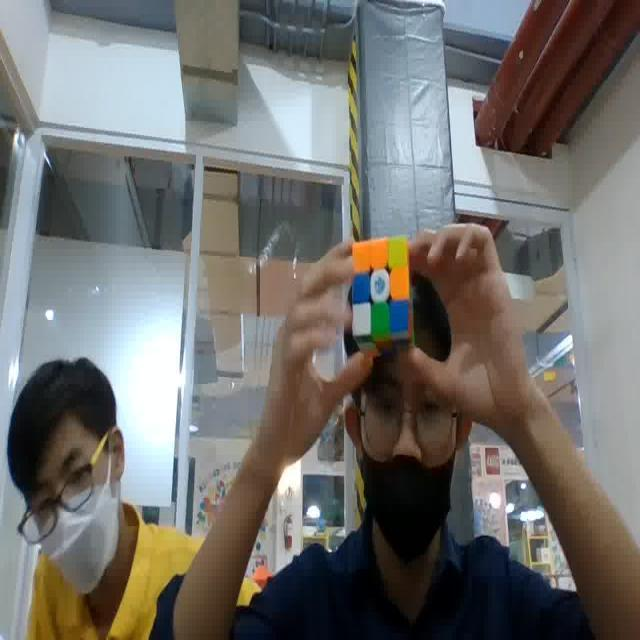Rub: (347, 232, 417, 351)
